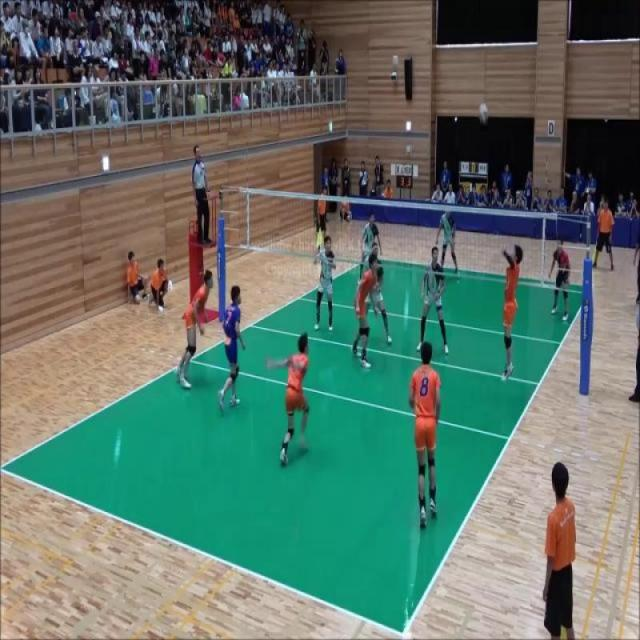volleyball: (478, 103, 489, 124)
